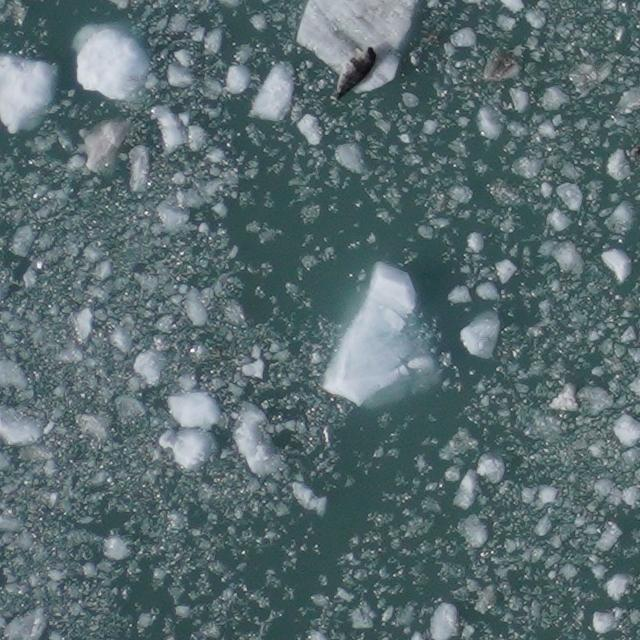seal: (329, 42, 382, 108)
